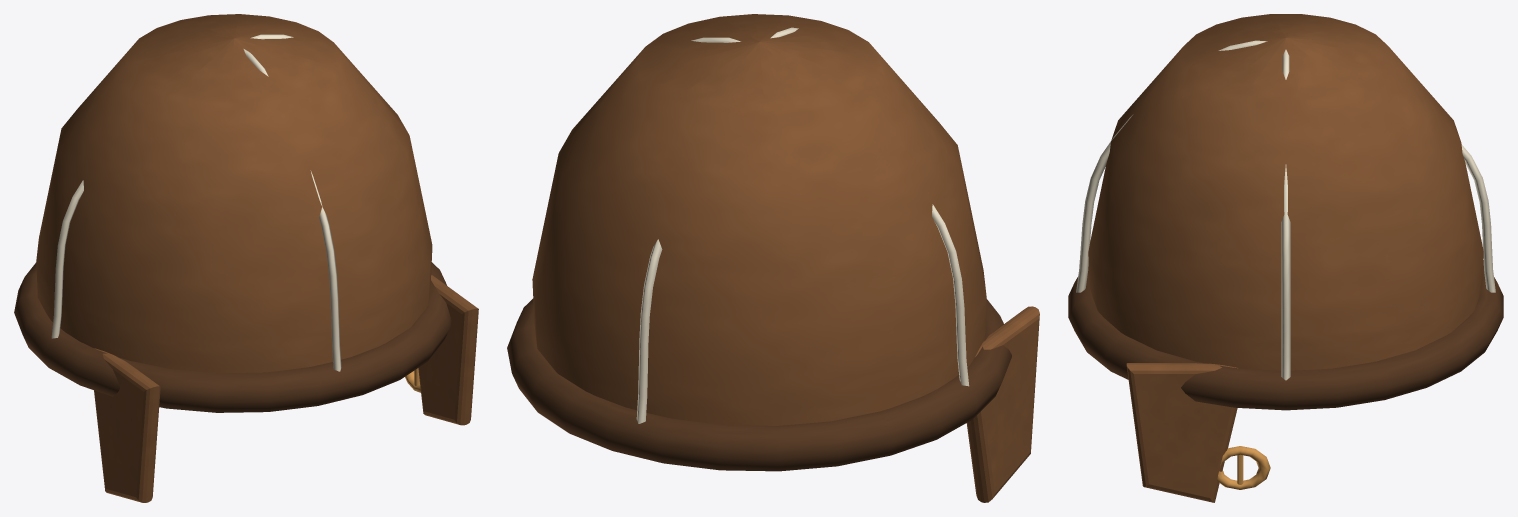
The model's file is helmet_leather.glb.
The picture shows the model from 3 angles, left to right: view 1: azimuth 30°, elevation 25°; view 2: azimuth 150°, elevation 25°; view 3: azimuth 270°, elevation 25°; orthographic projection. The views are drawn at different scales.
Parts seen in each view (by area): view 1: helmet_leather; view 2: helmet_leather; view 3: helmet_leather, buckle.
Part boxes in pixels (bbox=[...]): helmet_leather: bbox=[14, 14, 478, 502]; helmet_leather: bbox=[507, 14, 1039, 502]; helmet_leather: bbox=[1068, 14, 1503, 502]; buckle: bbox=[1217, 446, 1270, 489].
Bounding box in the file's own units: 0.288 × 0.2804 × 0.2859.
4 materials, 3 textured.
